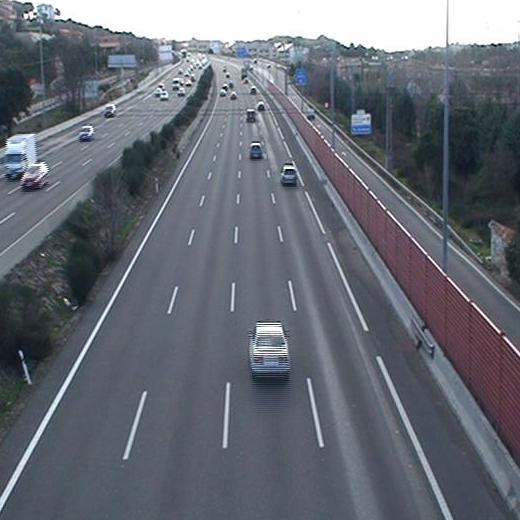car: (247, 320, 292, 376), (279, 163, 300, 185), (247, 140, 265, 161), (244, 108, 259, 124)
